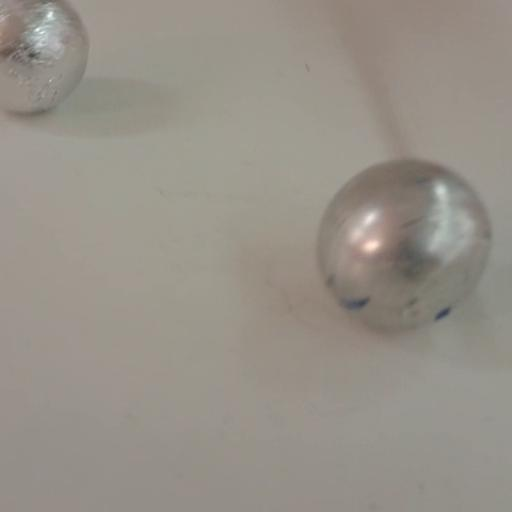alive: (310, 155, 495, 336), (0, 2, 90, 112)
